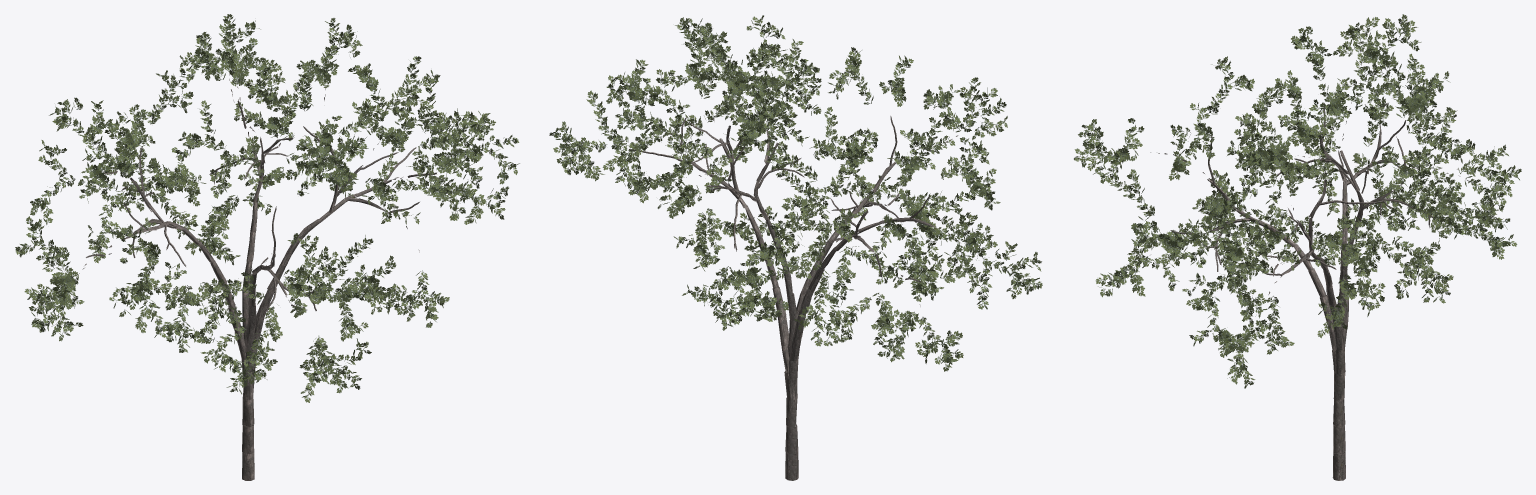
Rendered from elm2.glb.
3 views of the same model, side by side, from view 1: azimuth 30°, elevation 25°; view 2: azimuth 150°, elevation 25°; view 3: azimuth 270°, elevation 25° (orthographic).
Parts seen in each view (by area): view 1: leaves, bark; view 2: leaves, bark; view 3: leaves, bark.
Part boxes in pixels (x1,y1,x2,y2): leaves: [15, 14, 519, 402]; bark: [73, 72, 444, 480]; leaves: [549, 15, 1042, 371]; bark: [629, 77, 960, 480]; leaves: [1074, 14, 1521, 388]; bark: [1106, 36, 1471, 480].
Size of the model in its own units: 33.91 by 31.34 by 28.33.
Materials: 2 (2 with a texture image).
